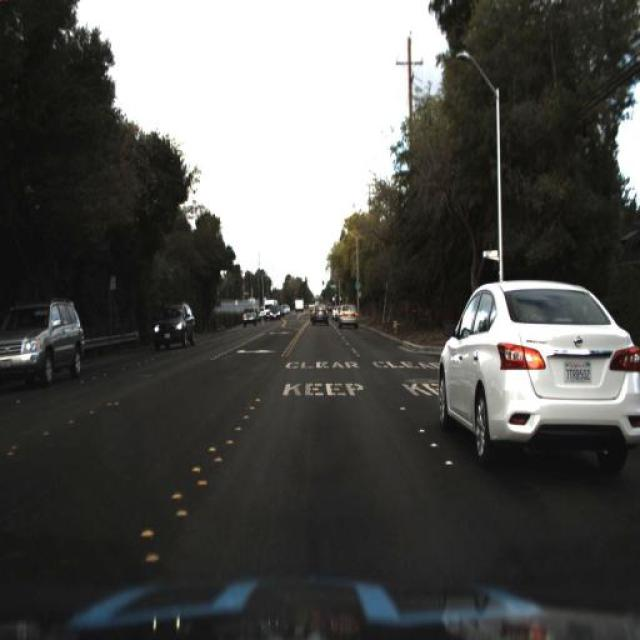car: (430, 278, 636, 470), (0, 300, 86, 390), (150, 299, 198, 356), (334, 298, 360, 333), (308, 300, 331, 330), (240, 304, 260, 330), (266, 301, 286, 323)
